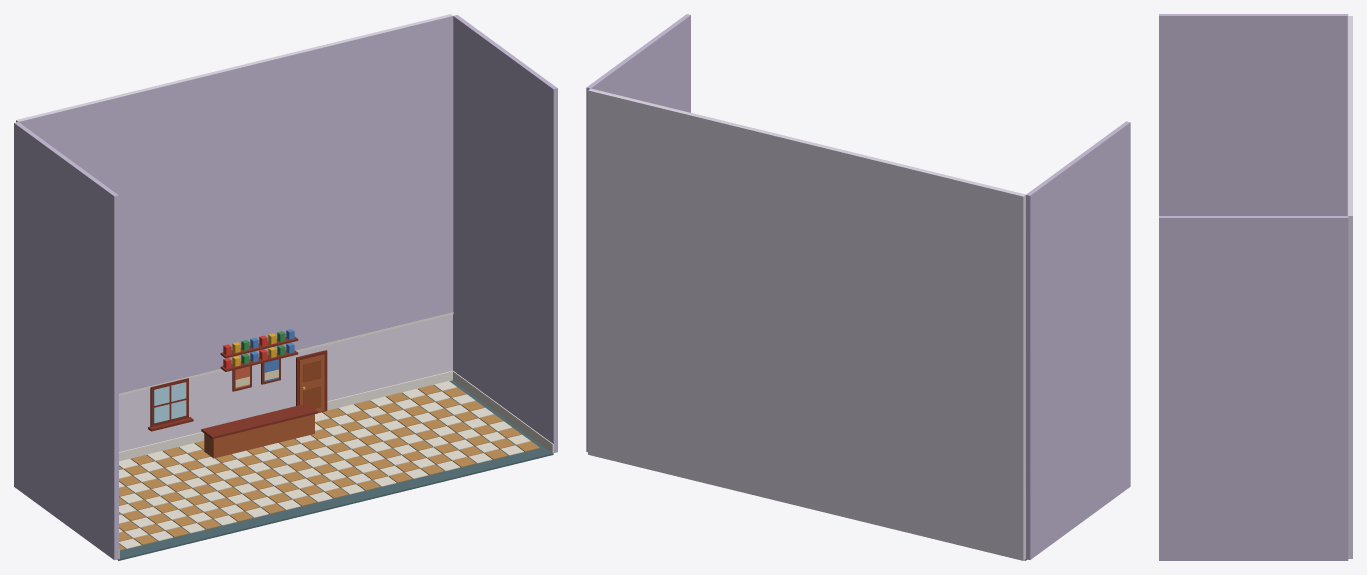
The model's file is room_franca_shop.glb.
3 renders of one model, left to right at view 1: azimuth 30°, elevation 25°; view 2: azimuth 150°, elevation 25°; view 3: azimuth 270°, elevation 25°, orthographic. The views are drawn at different scales.
Parts seen in each view (by area): view 1: room; view 2: room; view 3: room.
Boxes of the visible parts, left/top/right/bottom form: room: left=14, top=14, right=557, bottom=560; room: left=586, top=14, right=1130, bottom=560; room: left=1159, top=14, right=1352, bottom=560.
Bounding box in the file's own units: 30.6 × 24.11 × 12.3.
